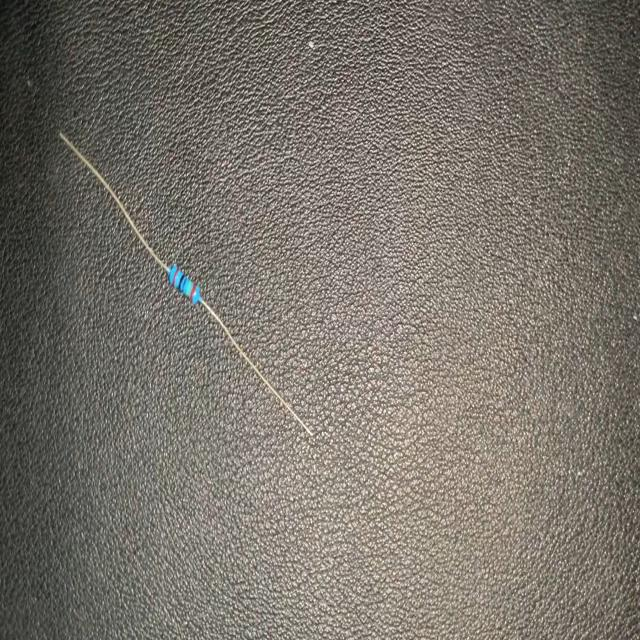resistor: (56, 123, 322, 446)
